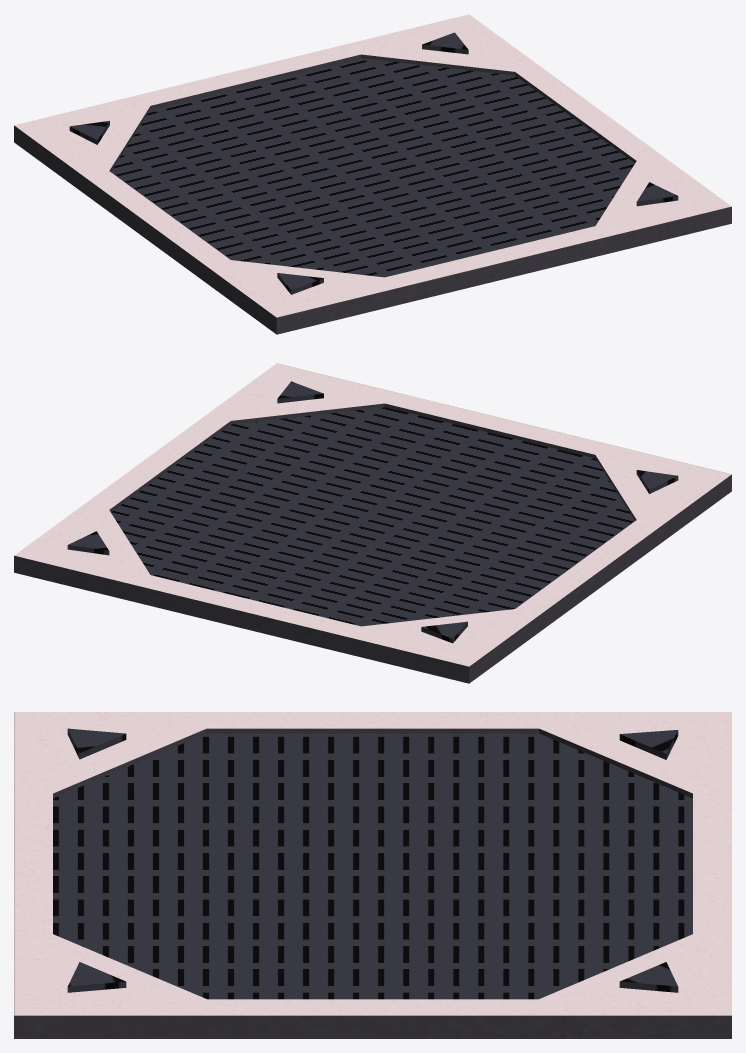
File: Path_Connection_Lattice.glb
3 renders of one model, top to bottom at view 1: azimuth 30°, elevation 25°; view 2: azimuth 150°, elevation 25°; view 3: azimuth 270°, elevation 25°, orthographic. The views are drawn at different scales.
Parts seen in each view (by area): view 1: Floor_Connection; view 2: Floor_Connection; view 3: Floor_Connection.
Boxes of the visible parts, x1,y1,x2,y2 form: Floor_Connection: (14,14,731,334); Floor_Connection: (14,363,731,683); Floor_Connection: (14,712,731,1038).
Size of the model in its own units: 4 by 0.1817 by 4.
Materials: 2 (2 with a texture image).
